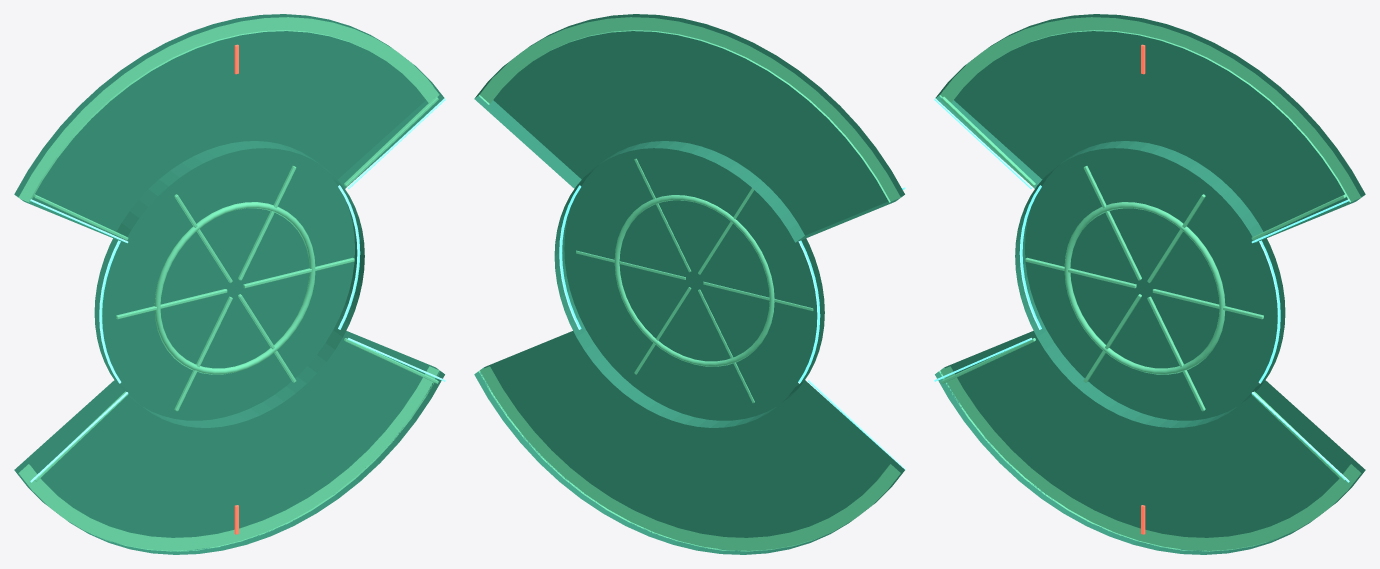
File: bio-panel-fun1-high.glb
3 views of the same model, side by side, from view 1: azimuth 30°, elevation 25°; view 2: azimuth 150°, elevation 25°; view 3: azimuth 330°, elevation 25° (orthographic).
Visible parts, largest first — view 1: RENDER_PANEL_SHELL, RENDER_PANEL_FRAME, RENDER_PANEL_SIGNAL; view 2: RENDER_PANEL_SHELL, RENDER_PANEL_FRAME, RENDER_PANEL_SIGNAL; view 3: RENDER_PANEL_SHELL, RENDER_PANEL_FRAME, RENDER_PANEL_SIGNAL.
Part boxes in pixels (<box>): RENDER_PANEL_SHELL: <box>14,14,444,554</box>; RENDER_PANEL_FRAME: <box>18,17,439,551</box>; RENDER_PANEL_SIGNAL: <box>30,98,445,482</box>; RENDER_PANEL_SHELL: <box>474,14,904,554</box>; RENDER_PANEL_FRAME: <box>478,17,900,551</box>; RENDER_PANEL_SIGNAL: <box>559,185,905,469</box>; RENDER_PANEL_SHELL: <box>935,14,1365,554</box>; RENDER_PANEL_FRAME: <box>939,17,1361,551</box>; RENDER_PANEL_SIGNAL: <box>934,98,1349,482</box>.
Size of what is drawn, in the model's own units: 34.77 by 40.95 by 1.95.
